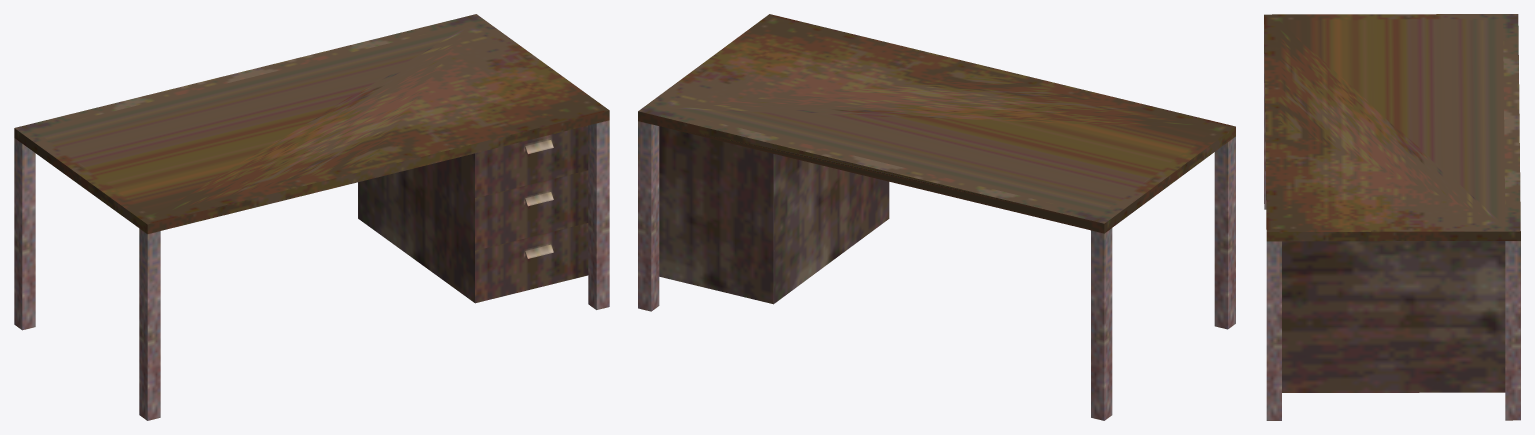
File: desk1_alt2_weathered.obj
3 views of the same model, side by side, from view 1: azimuth 30°, elevation 25°; view 2: azimuth 150°, elevation 25°; view 3: azimuth 270°, elevation 25° (orthographic). The views are drawn at different scales.
Visible parts, largest first — view 1: desk1_alt2_weathered; view 2: desk1_alt2_weathered; view 3: desk1_alt2_weathered.
Part boxes in pixels (left/top/right/bottom): desk1_alt2_weathered: left=14, top=14, right=609, bottom=420; desk1_alt2_weathered: left=638, top=14, right=1235, bottom=420; desk1_alt2_weathered: left=1264, top=14, right=1520, bottom=420.
Bounding box in the file's own units: 2.21 × 0.8911 × 1.1.
